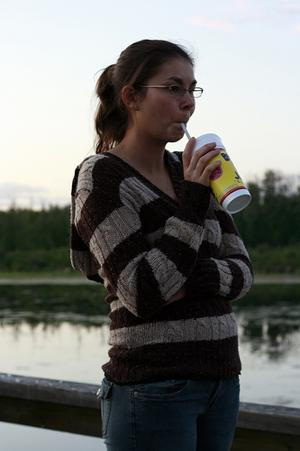person: (68, 35, 259, 450)
